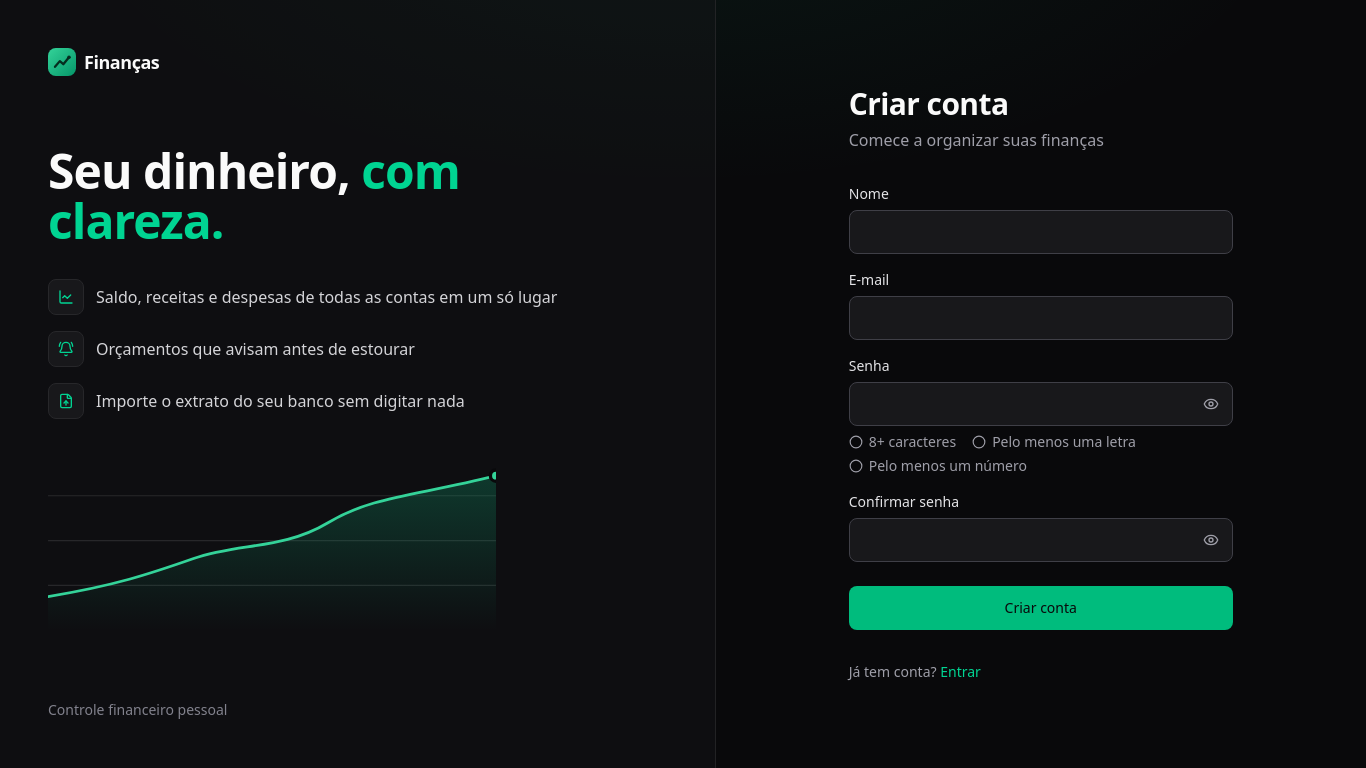
Test: RegisterPage › creates the account, stores the token and goes to the app
Type "Ana Souza" into the field labelled "Nome". click: x=1041, y=232
box: [849,210,1233,254]
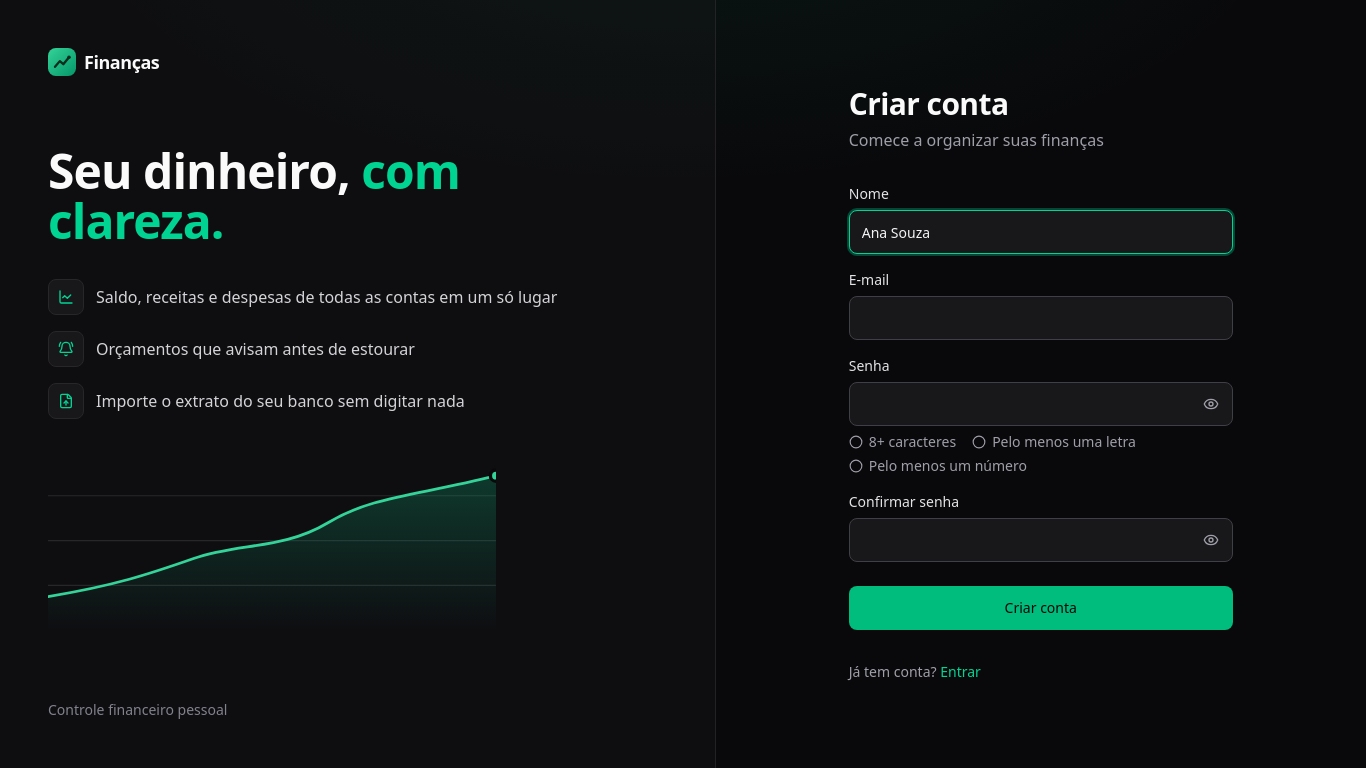
Type "ana@example.com" into the field labelled "E-mail". click: x=1041, y=318
box: [849,296,1233,340]
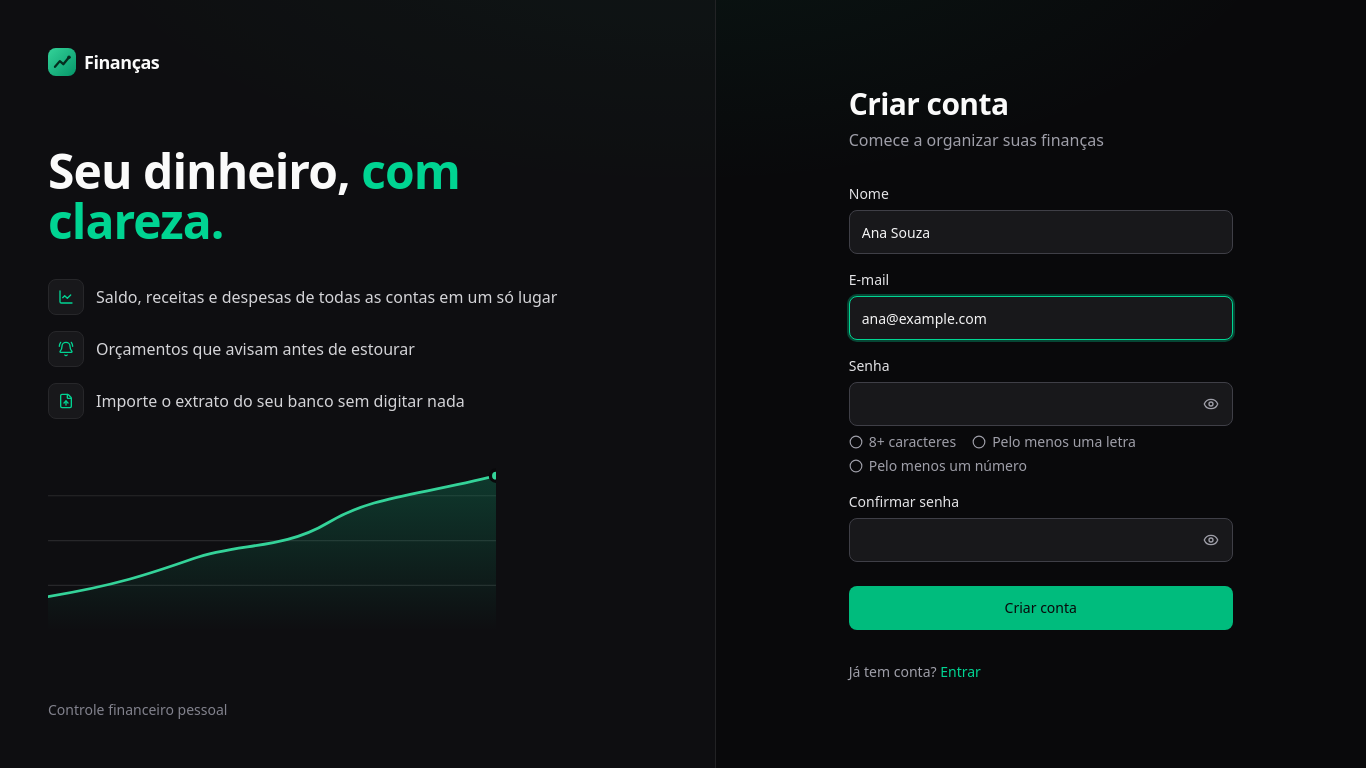
Type "senha123" into the password field labelled "Senha". click: x=1041, y=404
box: [849,382,1233,426]
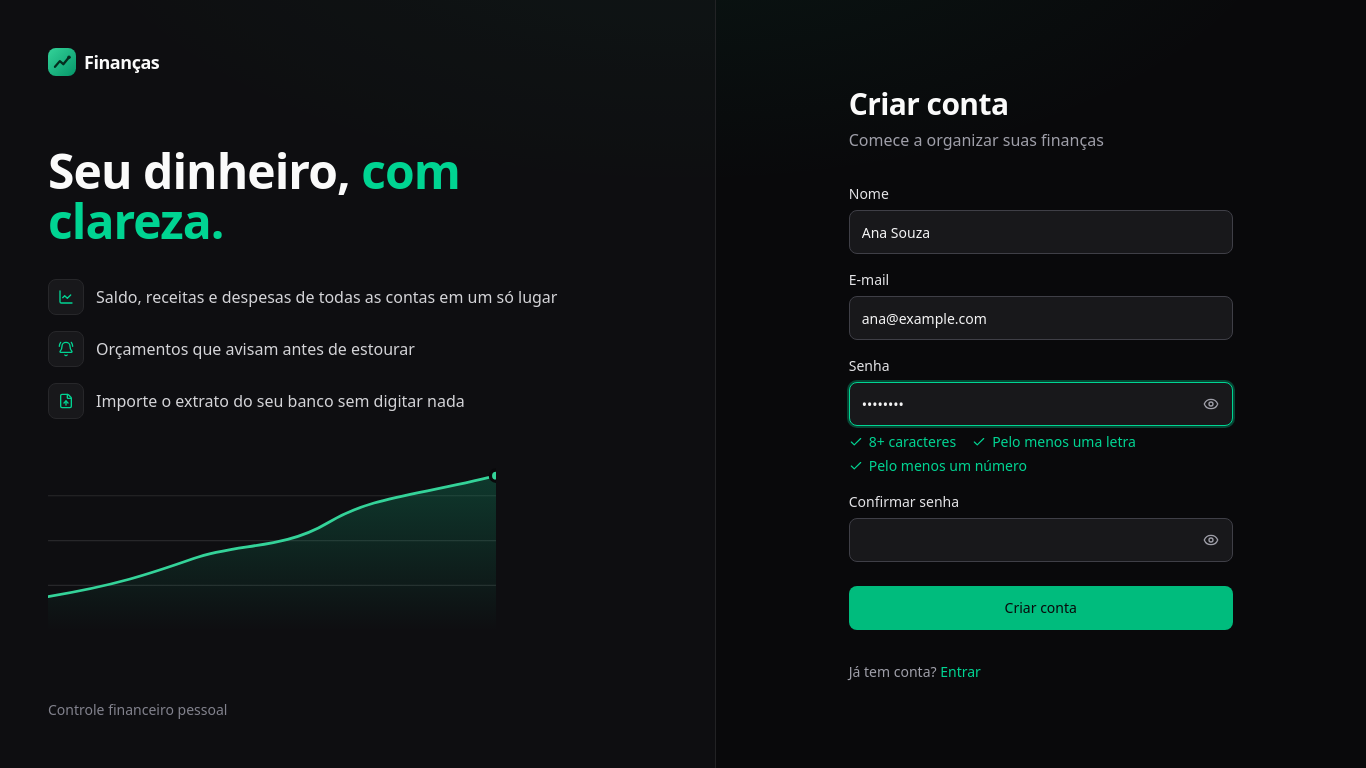
Type "senha123" into the password field labelled "Confirmar senha". click: x=1041, y=540
box: [849,518,1233,562]
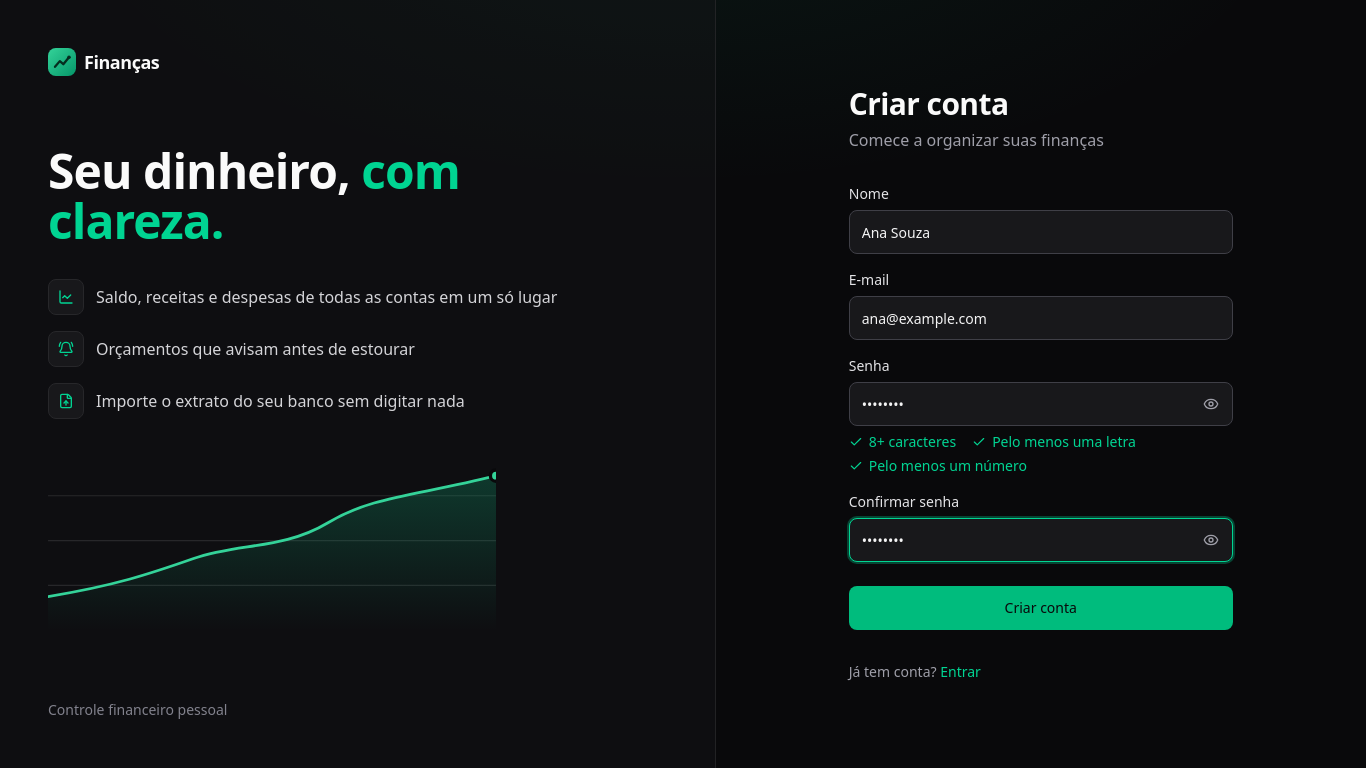
Click the button "Criar conta". click: x=1041, y=608
box: [849,586,1233,630]
(page scrolled)
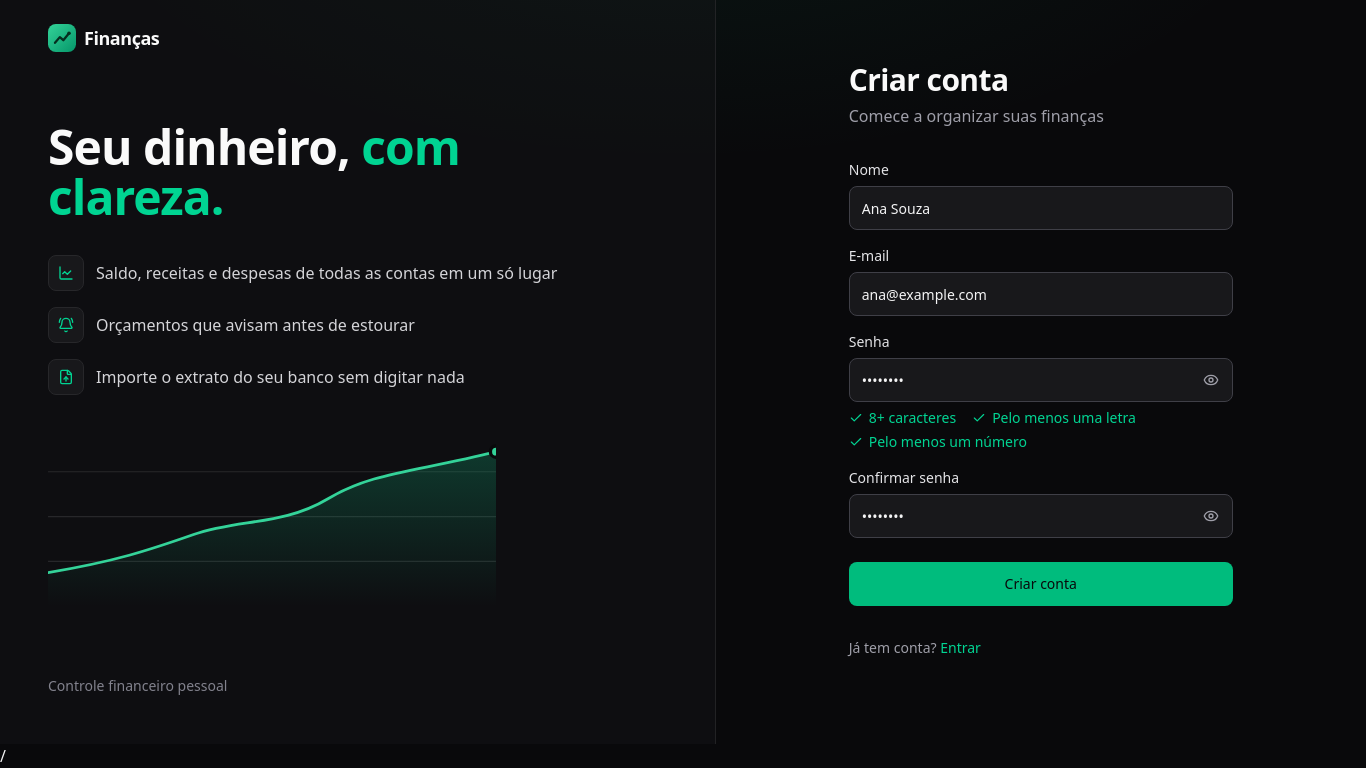
Now the text with test id "location" reads "/", box [0,745,6,767]
